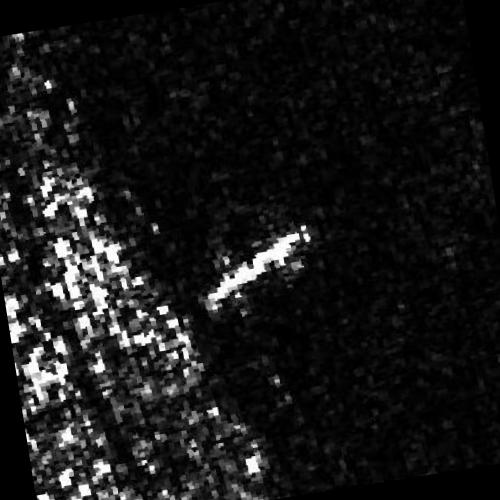ship: (201, 222, 315, 321)
